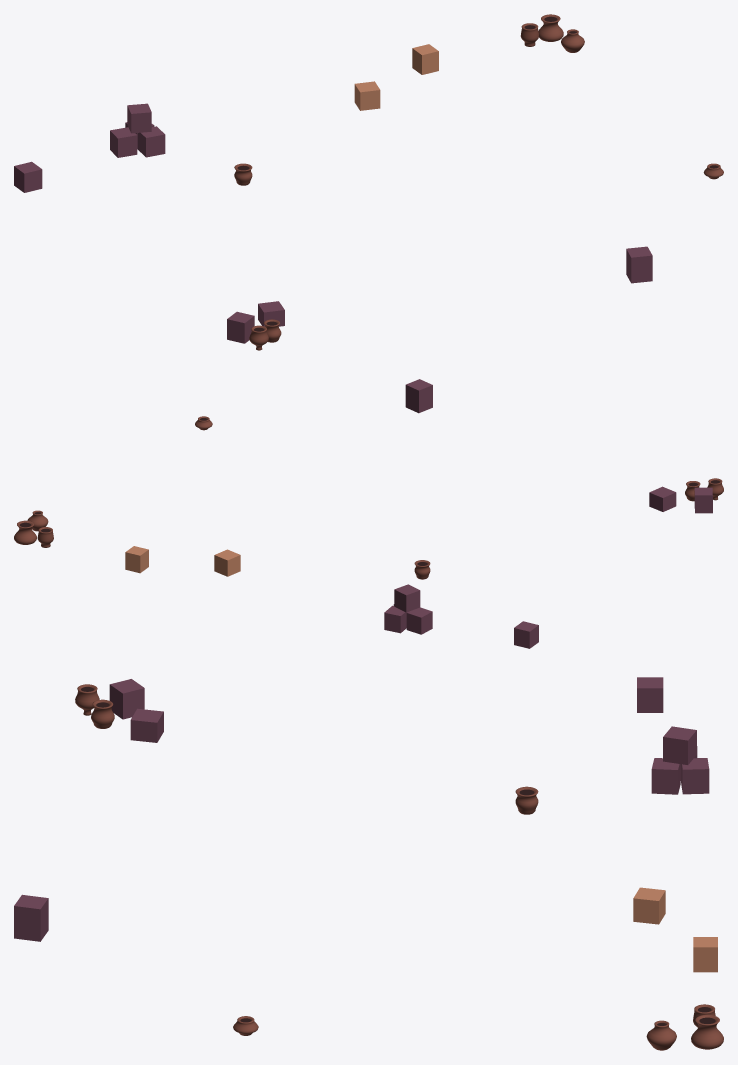
The model's file is props.fbx.
The picture shows the model from 3 angles, top to bottom: view 1: azimuth 30°, elevation 25°; view 2: azimuth 150°, elevation 25°; view 3: azimuth 270°, elevation 25°; orthographic projection. The views are drawn at different scales.
Visible parts, largest first — view 1: CRATE_17_crate_0_panels, CRATE_12_crate_0_panels, CRATE_13_crates_0a_panels, CRATE_16_crates_1_panels, CRATE_13_crates_0b_panels, CRATE_15_crate_0_panels, CRATE_14_crate_0_panels, CRATE_13_crates_0d_panels, CRATE_16_crates_0_panels; view 2: CRATE_17_crate_0_panels, CRATE_13_crates_0d_panels, CRATE_13_crates_0a_panels, CRATE_14_crate_0_panels, CRATE_12_crate_0_panels, CRATE_16_crates_0_panels, CRATE_15_crate_0_panels, CRATE_13_crates_0c_panels, CRATE_16_crates_1_panels; view 3: CRATE_17_crate_0_panels, CRATE_13_crates_0d_panels, CRATE_16_crates_1_panels, CRATE_14_crate_0_panels, CRATE_16_crates_0_panels, CRATE_13_crates_0b_panels, CRATE_12_crate_0_panels, CRATE_13_crates_0c_panels, CRATE_15_crate_0_panels, POT_20_pots_0a, POT_20_pots_0b.
Boxes of the visible parts, x1=… form: CRATE_17_crate_0_panels: x1=626, y1=246, x2=652, y2=283; CRATE_12_crate_0_panels: x1=14, y1=161, x2=42, y2=192; CRATE_13_crates_0a_panels: x1=110, y1=127, x2=137, y2=157; CRATE_16_crates_1_panels: x1=227, y1=311, x2=254, y2=343; CRATE_13_crates_0b_panels: x1=137, y1=126, x2=165, y2=157; CRATE_15_crate_0_panels: x1=412, y1=44, x2=438, y2=74; CRATE_14_crate_0_panels: x1=354, y1=81, x2=380, y2=110; CRATE_13_crates_0d_panels: x1=127, y1=103, x2=151, y2=133; CRATE_16_crates_0_panels: x1=258, y1=301, x2=284, y2=326; CRATE_17_crate_0_panels: x1=405, y1=379, x2=432, y2=413; CRATE_13_crates_0d_panels: x1=394, y1=584, x2=420, y2=612; CRATE_13_crates_0a_panels: x1=406, y1=607, x2=432, y2=634; CRATE_14_crate_0_panels: x1=214, y1=549, x2=240, y2=576; CRATE_12_crate_0_panels: x1=514, y1=621, x2=538, y2=648; CRATE_16_crates_0_panels: x1=649, y1=486, x2=676, y2=511; CRATE_15_crate_0_panels: x1=125, y1=546, x2=148, y2=573; CRATE_13_crates_0c_panels: x1=384, y1=605, x2=407, y2=633; CRATE_16_crates_1_panels: x1=694, y1=487, x2=712, y2=513; CRATE_17_crate_0_panels: x1=14, y1=894, x2=48, y2=941; CRATE_13_crates_0d_panels: x1=663, y1=726, x2=696, y2=764; CRATE_16_crates_1_panels: x1=109, y1=679, x2=144, y2=719; CRATE_14_crate_0_panels: x1=633, y1=887, x2=665, y2=924; CRATE_16_crates_0_panels: x1=130, y1=708, x2=163, y2=742; CRATE_13_crates_0b_panels: x1=651, y1=758, x2=680, y2=794; CRATE_12_crate_0_panels: x1=637, y1=677, x2=663, y2=712; CRATE_13_crates_0c_panels: x1=681, y1=758, x2=709, y2=794; CRATE_15_crate_0_panels: x1=693, y1=937, x2=717, y2=972; POT_20_pots_0a: x1=691, y1=1014, x2=723, y2=1049; POT_20_pots_0b: x1=646, y1=1020, x2=676, y2=1050.
Size of the model in its own units: 4763 by 330 by 4075.
